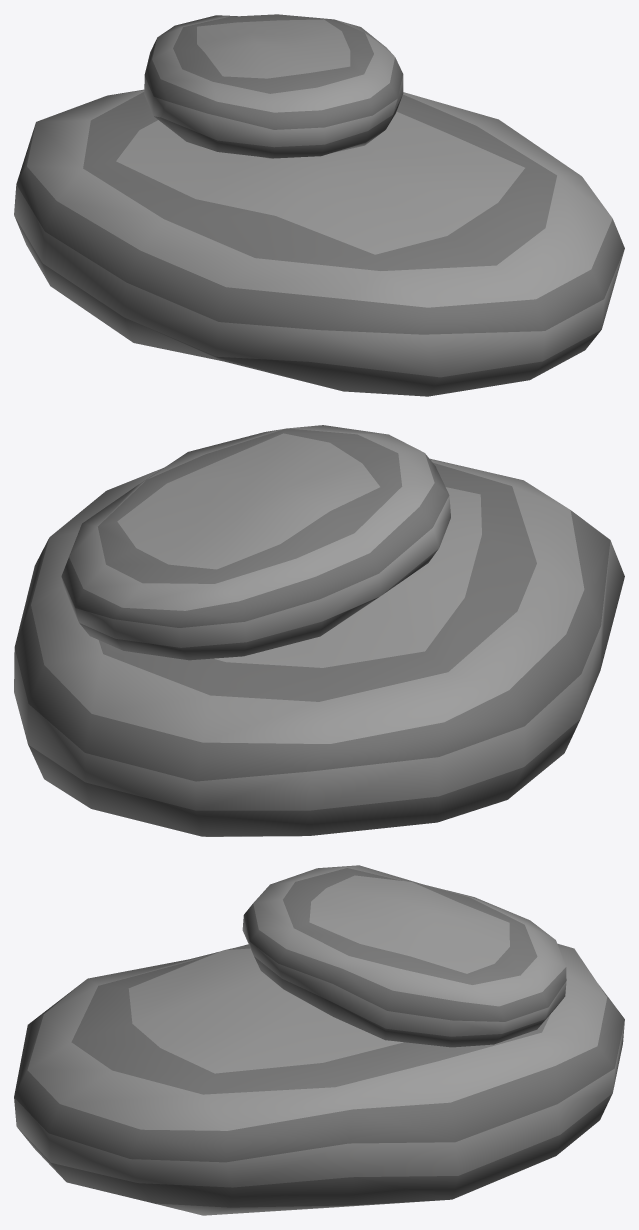
Rendered from roundRock-02_col.fbx.
3 views of the same model, one above another, from view 1: azimuth 30°, elevation 25°; view 2: azimuth 150°, elevation 25°; view 3: azimuth 270°, elevation 25° (orthographic). The views are drawn at different scales.
Visible parts, largest first — view 1: roundRock-02.col; view 2: roundRock-02.col; view 3: roundRock-02.col.
Boxes of the visible parts, x1,y1,x2,y2 form: roundRock-02.col: (14,14,624,396); roundRock-02.col: (14,425,624,836); roundRock-02.col: (14,865,624,1215).
Size of the model in its own units: 0.3422 by 0.1695 by 0.4134.
1 material, 1 textured.
